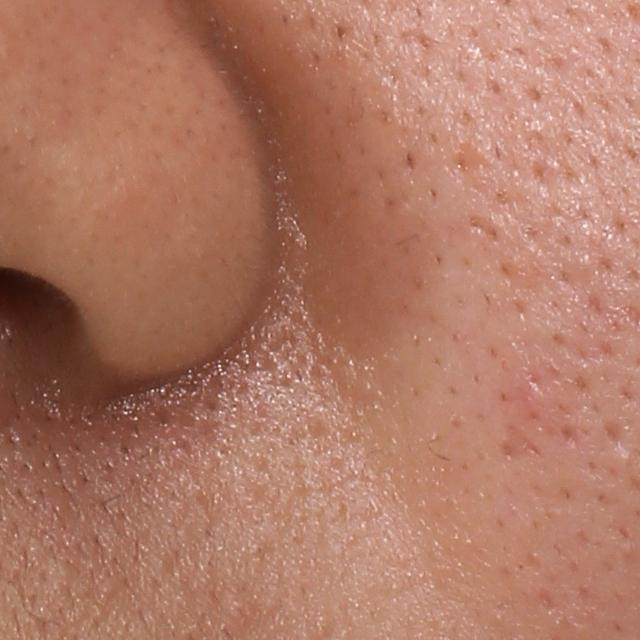atrophic_scar: (443, 137, 494, 183), (499, 423, 541, 460), (462, 212, 507, 246), (600, 419, 631, 459)
